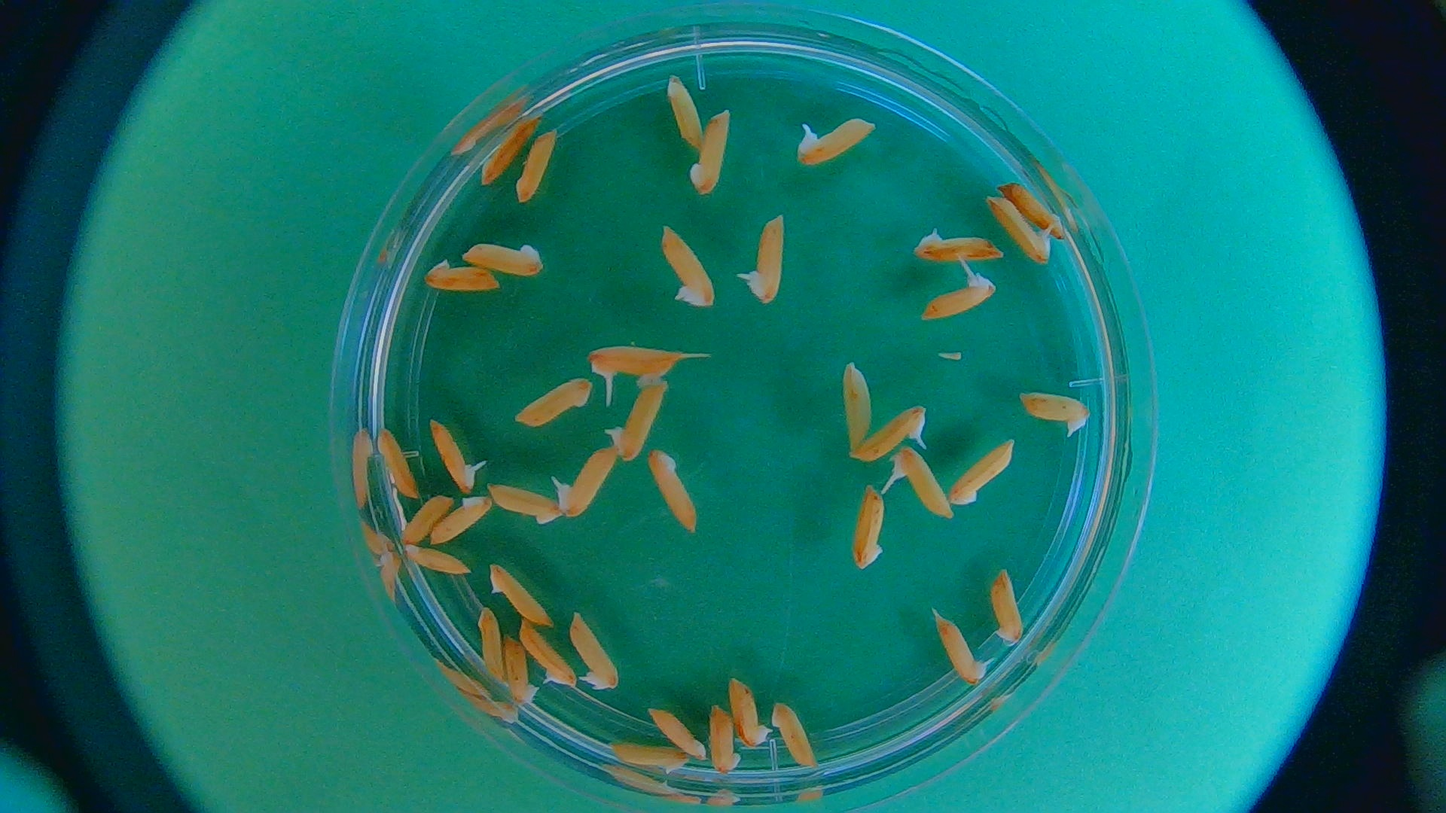no: (480, 558, 556, 634), (642, 693, 714, 773), (947, 437, 1022, 510), (999, 171, 1068, 247), (511, 617, 578, 695), (477, 115, 542, 185), (508, 376, 593, 429), (660, 227, 715, 308), (485, 478, 566, 531), (369, 423, 424, 500), (386, 483, 453, 546), (648, 450, 698, 534), (424, 489, 495, 548), (722, 674, 777, 750), (689, 108, 734, 199), (604, 733, 691, 779), (457, 235, 547, 279), (418, 251, 501, 298), (837, 357, 875, 458), (662, 65, 706, 151), (394, 537, 476, 583), (848, 483, 889, 574), (514, 127, 560, 207), (767, 696, 816, 770), (499, 626, 541, 711), (706, 700, 749, 776), (471, 601, 507, 688), (988, 567, 1027, 647), (915, 230, 1006, 263)
yes: (846, 407, 924, 464), (795, 114, 880, 166), (424, 422, 480, 500), (615, 376, 664, 464), (891, 449, 953, 518), (987, 199, 1052, 262), (558, 445, 612, 517), (570, 615, 618, 691), (587, 342, 681, 380), (748, 211, 786, 303), (1015, 391, 1091, 437), (924, 276, 996, 324), (936, 615, 982, 688)
